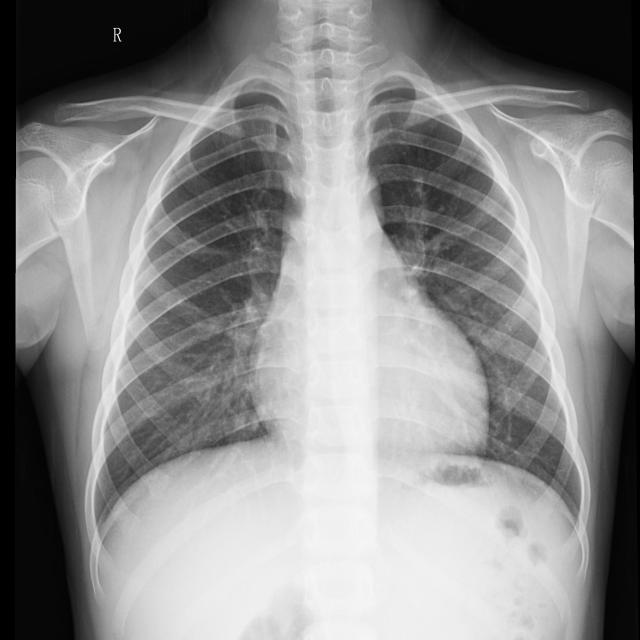no-pneumonia: (370, 86, 582, 516), (94, 92, 294, 526)
